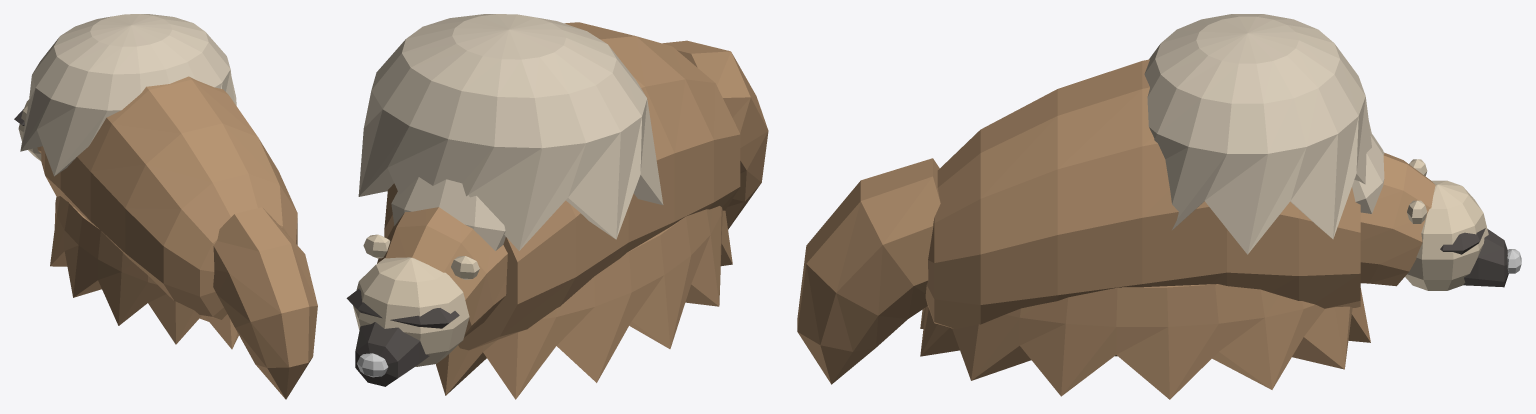
The model's file is animal_megasloth.obj.
3 views of the same model, side by side, from view 1: azimuth 30°, elevation 25°; view 2: azimuth 150°, elevation 25°; view 3: azimuth 270°, elevation 25° (orthographic). The views are drawn at different scales.
Parts seen in each view (by area): view 1: animal_megasloth; view 2: animal_megasloth; view 3: animal_megasloth.
Boxes of the visible parts, x1,y1,x2,y2 form: animal_megasloth: (14,14,317,399); animal_megasloth: (346,14,768,399); animal_megasloth: (797,14,1521,399).
Size of the model in its own units: 1.18 by 1.51 by 2.82.
